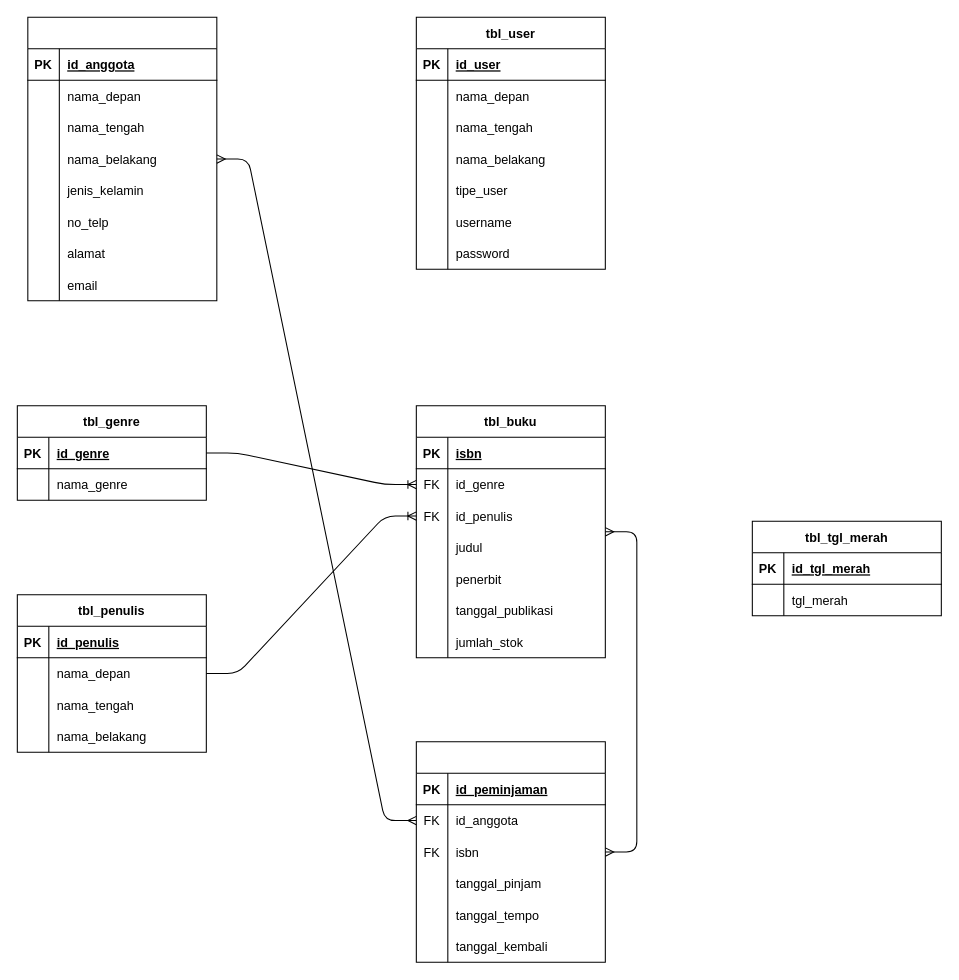
This 959x980 diagram has some shape labels left out. The box of each missing label's shape, as (x1, y1, x2, y2) in pixels:
tbl_anggota: (27, 16, 217, 301)
tbl_peminjaman: (415, 741, 605, 962)
